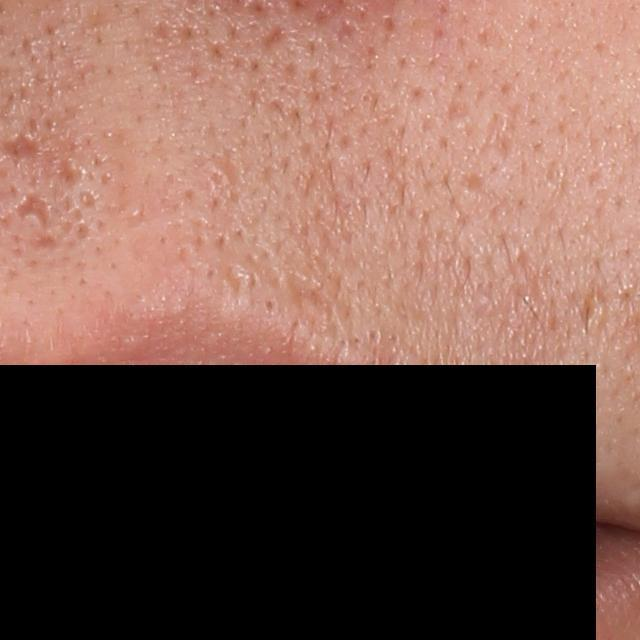atrophic_scar: (11, 192, 51, 228), (57, 149, 91, 190), (260, 21, 288, 53), (26, 230, 60, 252)
